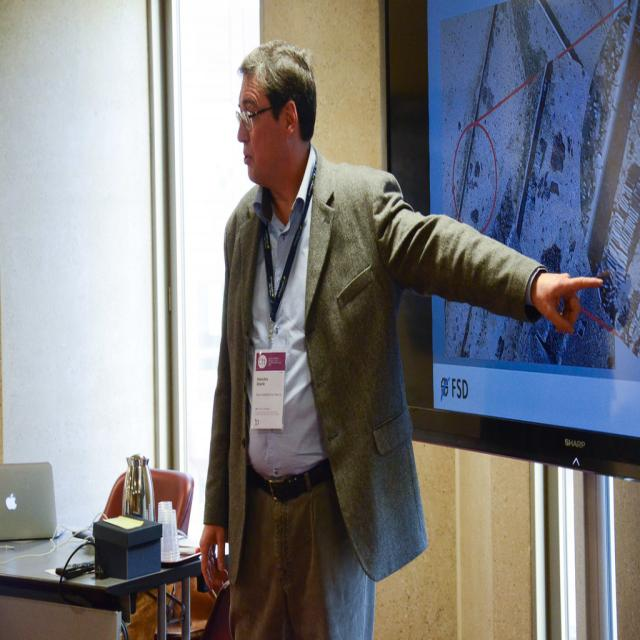desk: (0, 536, 202, 639)
laptop: (0, 462, 58, 544)
person: (195, 36, 606, 630)
